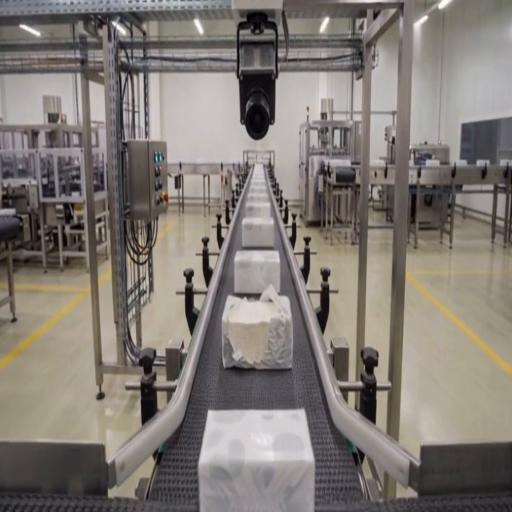defective: (199, 408, 314, 511), (220, 289, 292, 369)
good: (233, 250, 281, 296), (241, 217, 277, 251), (244, 202, 272, 222), (246, 182, 270, 200), (248, 169, 270, 186), (249, 163, 267, 175)
